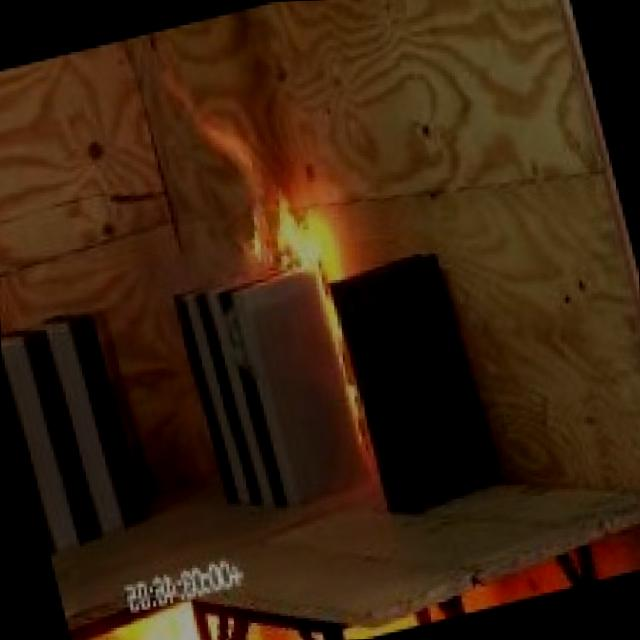fire: (168, 61, 383, 328)
